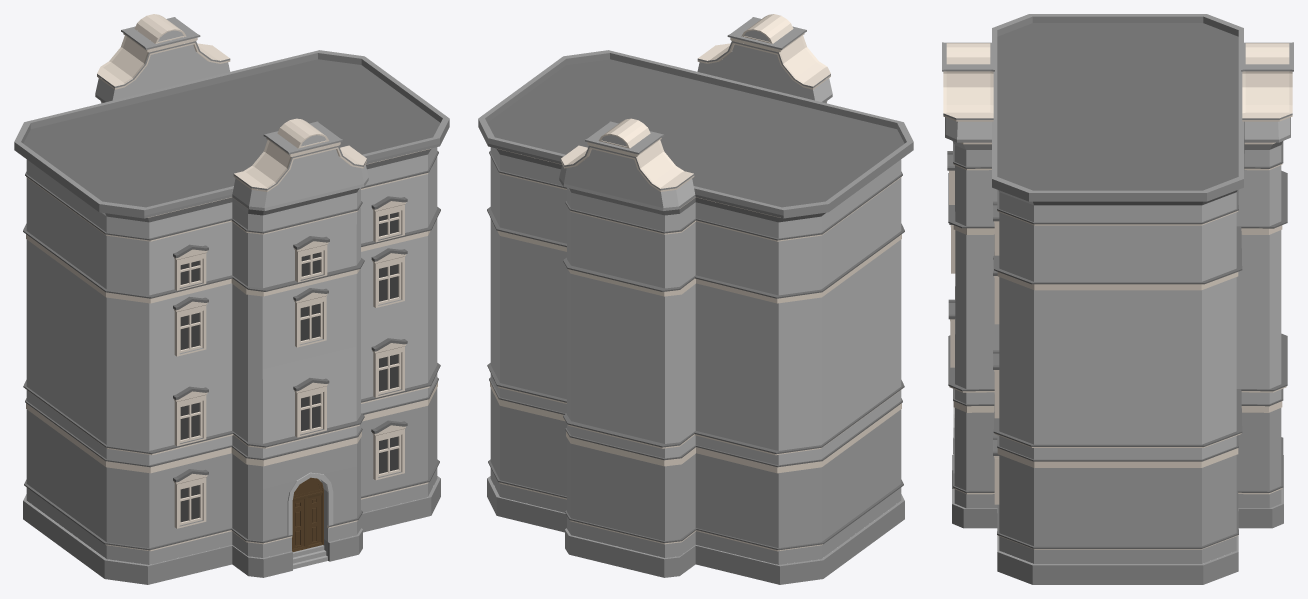
File: Building4.glb
3 renders of one model, left to right at view 1: azimuth 30°, elevation 25°; view 2: azimuth 150°, elevation 25°; view 3: azimuth 270°, elevation 25°, orthographic. The views are drawn at different scales.
Parts seen in each view (by area): view 1: Building4_1, Building4_3, Building4_0, Building4_4, Building4_2, Building4_6, Building4_5; view 2: Building4_1, Building4_3, Building4_0, Building4_2, Building4_4; view 3: Building4_1, Building4_3, Building4_0, Building4_2, Building4_4.
Boxes of the visible parts, bbox=[...] form: Building4_1: bbox=[26, 30, 437, 535]; Building4_3: bbox=[23, 59, 440, 550]; Building4_0: bbox=[26, 388, 437, 569]; Building4_4: bbox=[25, 14, 437, 551]; Building4_2: bbox=[14, 17, 449, 584]; Building4_6: bbox=[180, 212, 398, 522]; Building4_5: bbox=[292, 477, 323, 551]; Building4_1: bbox=[490, 30, 901, 465]; Building4_3: bbox=[487, 59, 904, 550]; Building4_0: bbox=[490, 388, 901, 564]; Building4_2: bbox=[478, 17, 913, 584]; Building4_4: bbox=[490, 14, 902, 551]; Building4_1: bbox=[945, 117, 1290, 473]; Building4_3: bbox=[947, 23, 1287, 548]; Building4_0: bbox=[954, 408, 1281, 563]; Building4_2: bbox=[942, 14, 1293, 584]; Building4_4: bbox=[943, 43, 1292, 549].
Bounding box in the file's own units: 4.64 × 5.49 × 3.86.
